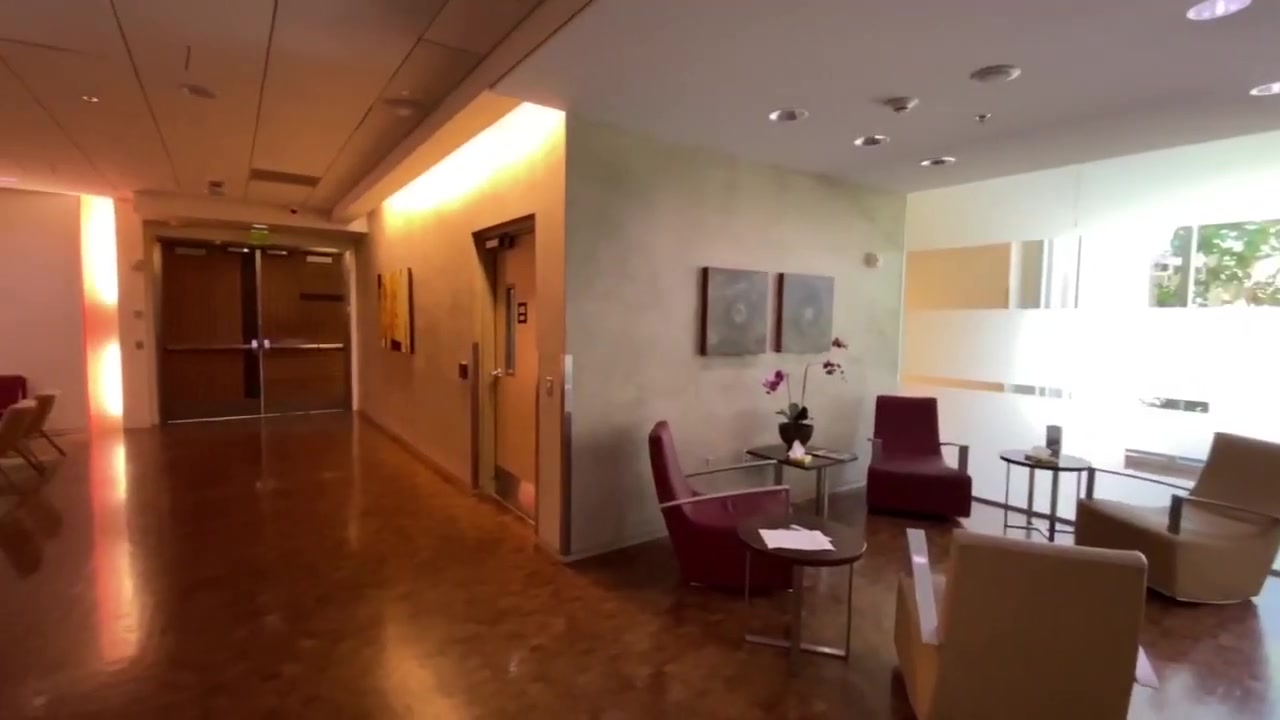door_handle: (492, 368, 505, 379)
push_latch: (165, 338, 257, 353), (262, 339, 344, 351)
sofa: (886, 521, 1150, 720), (1075, 429, 1280, 608), (646, 416, 800, 595), (863, 393, 974, 525)
table: (737, 508, 857, 652), (751, 437, 857, 520), (998, 440, 1089, 534)
